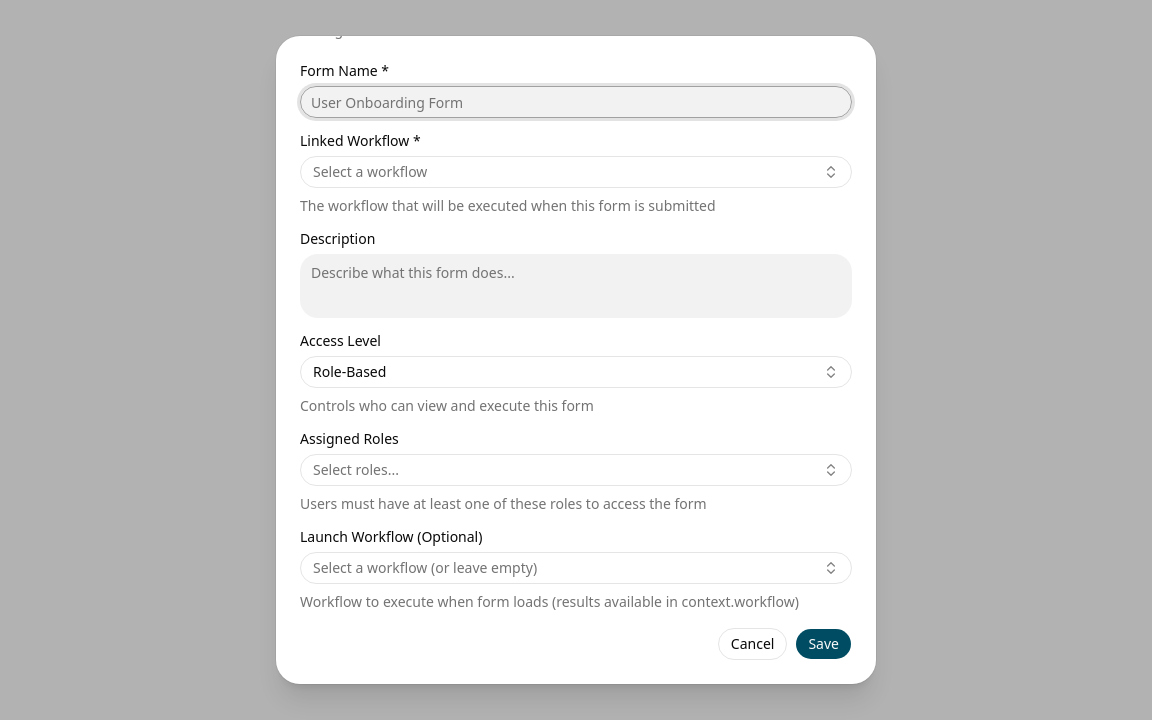
FormInfoDialog — validation › surfaces required errors when Save is clicked with an empty form
(page scrolled)
What coordinates should you click on to do the following:
click the button "Save"
I would click on:
 (824, 644)
Its box is [795, 628, 852, 660].
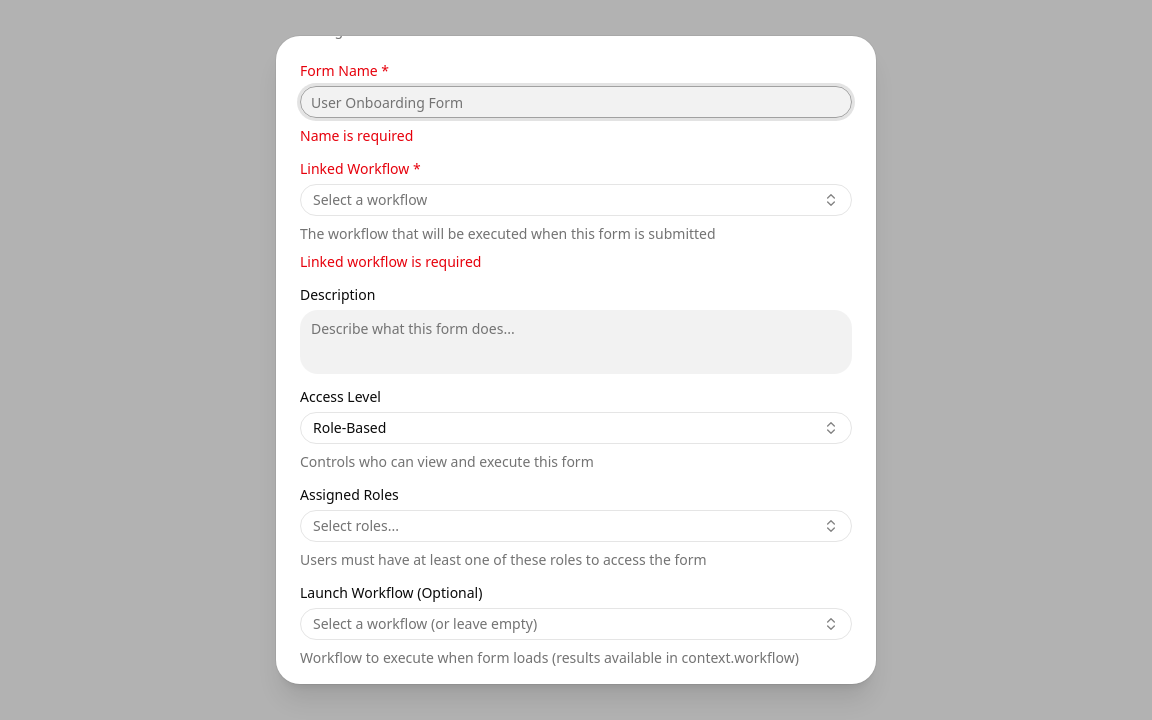
expect the text "Name is required" is shown: met, box [300, 126, 413, 145]
expect the text "Linked workflow is required" is shown: met, box [300, 252, 482, 271]
